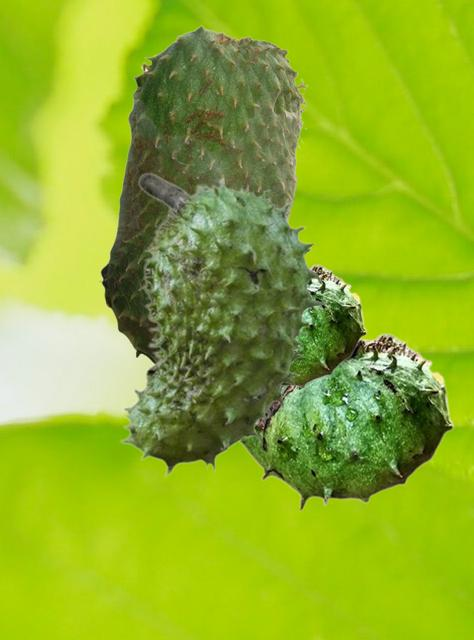guyabano: (98, 24, 307, 362), (118, 172, 328, 477), (239, 332, 453, 511), (283, 264, 366, 389)
